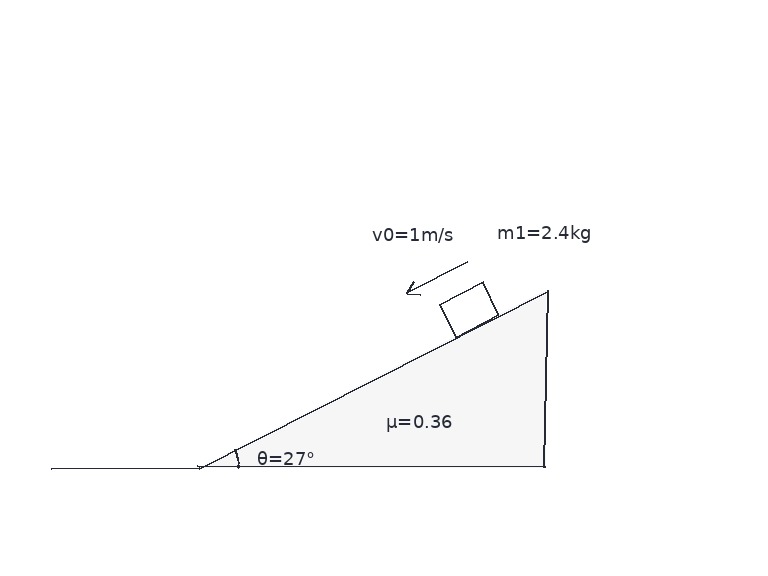block: (437, 281, 501, 338)
ramp: (197, 288, 548, 469)
